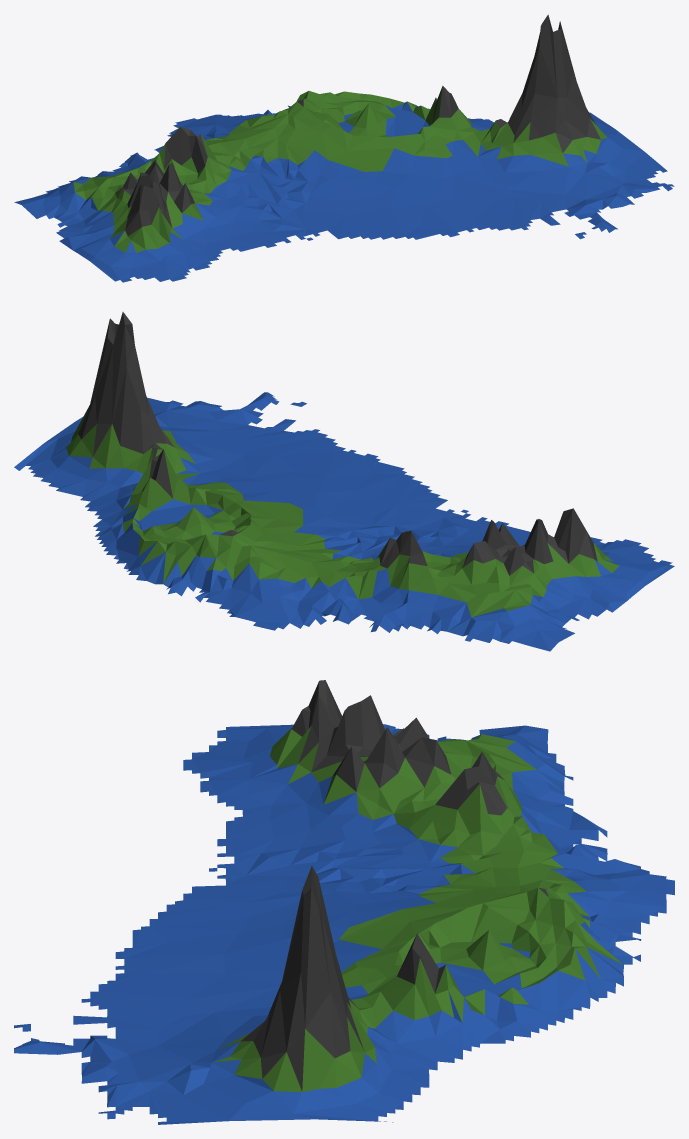
The model's file is Mountain7.fbx.
3 renders of one model, top to bottom at view 1: azimuth 30°, elevation 25°; view 2: azimuth 150°, elevation 25°; view 3: azimuth 270°, elevation 25°, orthographic. The views are drawn at different scales.
Parts seen in each view (by area): view 1: Plane.020; view 2: Plane.020; view 3: Plane.020.
Boxes of the visible parts, x1,y1,x2,y2 form: Plane.020: (14, 14, 674, 282); Plane.020: (14, 312, 674, 651); Plane.020: (14, 680, 674, 1124).
Bounding box in the file's own units: 2001 × 498 × 1418.
